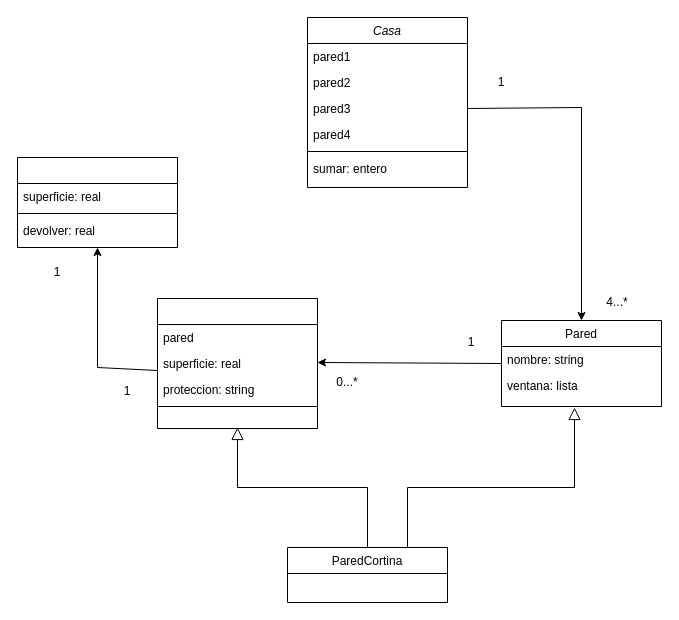
The diagram is 679 pixels wide and 620 high, and some of its shapes have lost their labels. The shapes that lost their labels are listed below. From the top down, each one's box as (x1, y1, x2, y2) in pixels, then its label:
(16, 156, 178, 248): Cristal
(156, 298, 318, 428): Ventana
